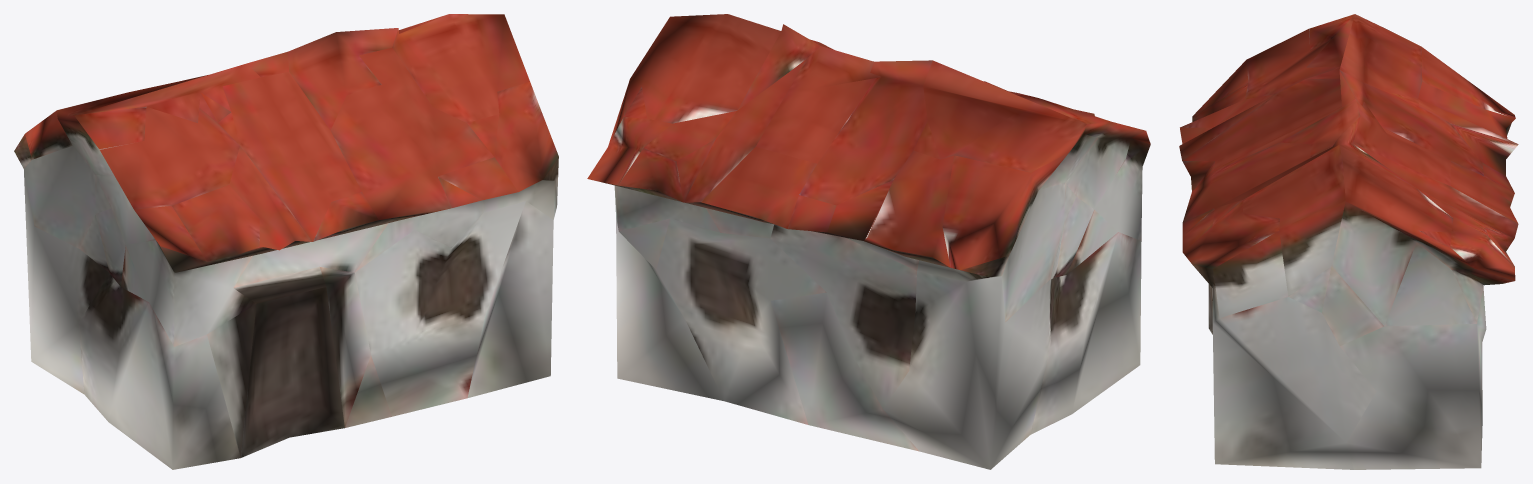
Rendered from house_greek_lo.glb.
3 views of the same model, side by side, from view 1: azimuth 30°, elevation 25°; view 2: azimuth 150°, elevation 25°; view 3: azimuth 270°, elevation 25° (orthographic). The views are drawn at different scales.
Parts seen in each view (by area): view 1: tripo_node_b7c63acf-afde-4790-8c13-b8695822d518; view 2: tripo_node_b7c63acf-afde-4790-8c13-b8695822d518; view 3: tripo_node_b7c63acf-afde-4790-8c13-b8695822d518.
Boxes of the visible parts, x1,y1,x2,y2 form: tripo_node_b7c63acf-afde-4790-8c13-b8695822d518: (14,14,558,469); tripo_node_b7c63acf-afde-4790-8c13-b8695822d518: (587,14,1150,469); tripo_node_b7c63acf-afde-4790-8c13-b8695822d518: (1179,14,1518,469).
Bounding box in the file's own units: 0.9777 × 0.7075 × 0.7415.
1 material, 1 textured.
